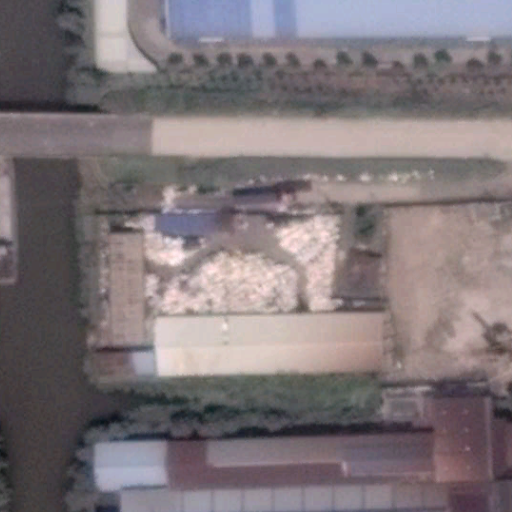msw: (132, 213, 343, 312)
